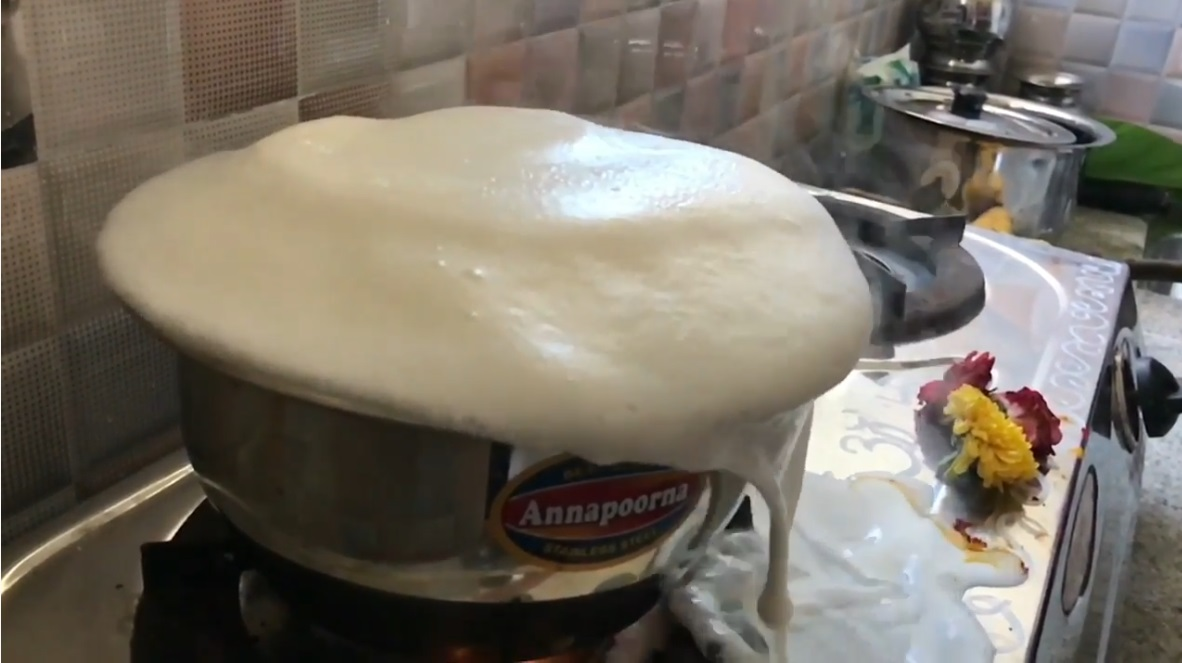Boiled: (77, 101, 882, 638)
